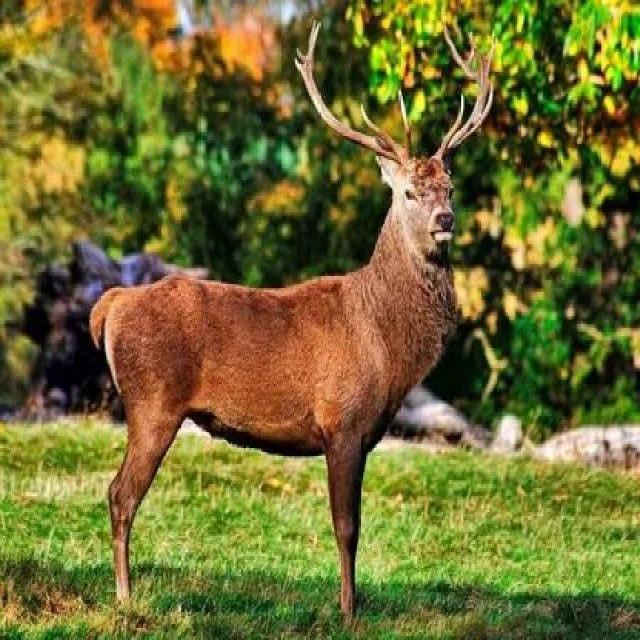deer: (57, 43, 505, 602)
